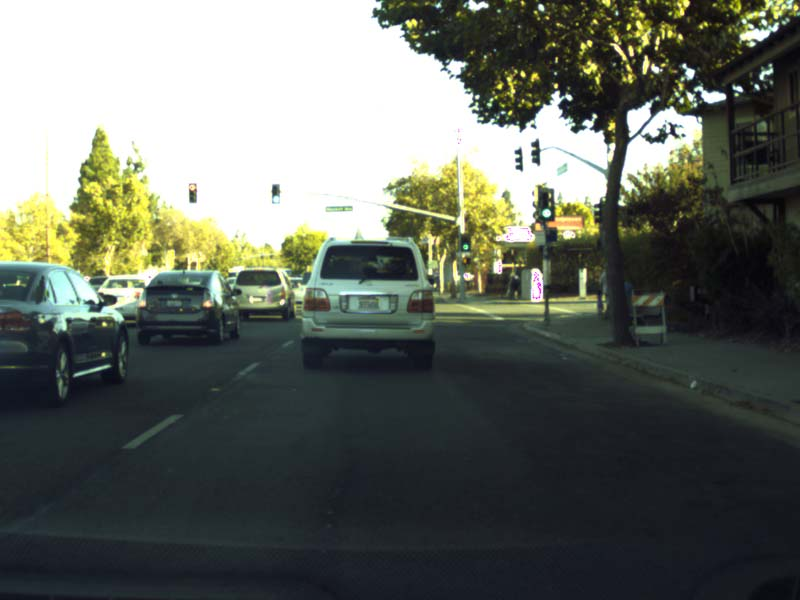Green: (538, 186, 555, 221), (458, 233, 472, 252), (271, 183, 280, 204)
Red: (187, 182, 197, 203)
